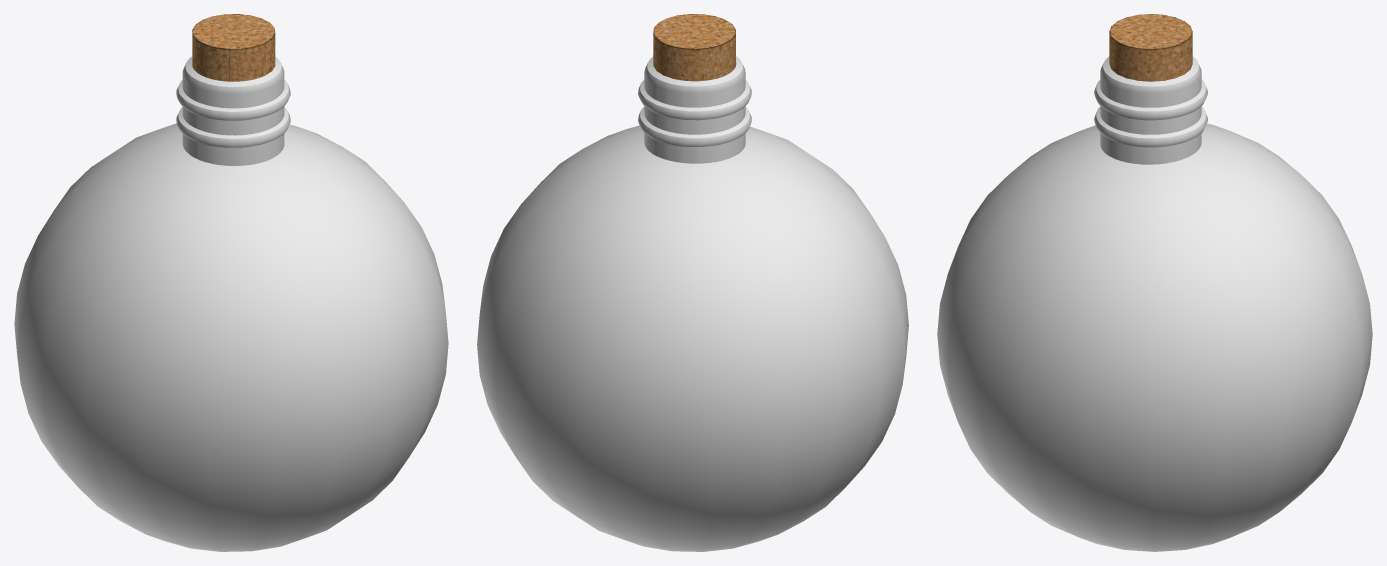
File: Health Potion Bottle.fbx
3 renders of one model, left to right at view 1: azimuth 30°, elevation 25°; view 2: azimuth 150°, elevation 25°; view 3: azimuth 270°, elevation 25°, orthographic.
Parts seen in each view (by area): view 1: pSphere1, pCylinder14, pCylinder15, pCylinder10, pCylinder9; view 2: pSphere1, pCylinder14, pCylinder15, pCylinder10, pCylinder9; view 3: pSphere1, pCylinder14, pCylinder15, pCylinder10, pCylinder9.
Part boxes in pixels (x1,y1,x2,y2): pSphere1: [14, 123, 448, 551]; pCylinder14: [182, 56, 284, 165]; pCylinder15: [192, 14, 275, 81]; pCylinder10: [176, 80, 290, 120]; pCylinder9: [176, 107, 290, 147]; pSphere1: [477, 125, 908, 551]; pCylinder14: [644, 56, 745, 163]; pCylinder15: [653, 14, 735, 81]; pCylinder10: [638, 79, 751, 120]; pCylinder9: [638, 106, 751, 146]; pSphere1: [937, 123, 1372, 551]; pCylinder14: [1100, 56, 1201, 164]; pCylinder15: [1109, 14, 1192, 81]; pCylinder10: [1094, 79, 1207, 120]; pCylinder9: [1094, 106, 1207, 147].
Size of the model in its own units: 2.01 by 2.55 by 2.01.
Materials: 2 (1 with a texture image).
